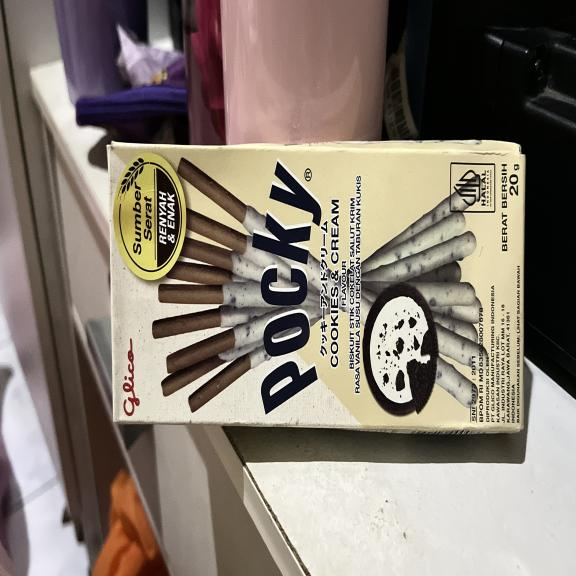Kertas: (108, 141, 524, 432)
